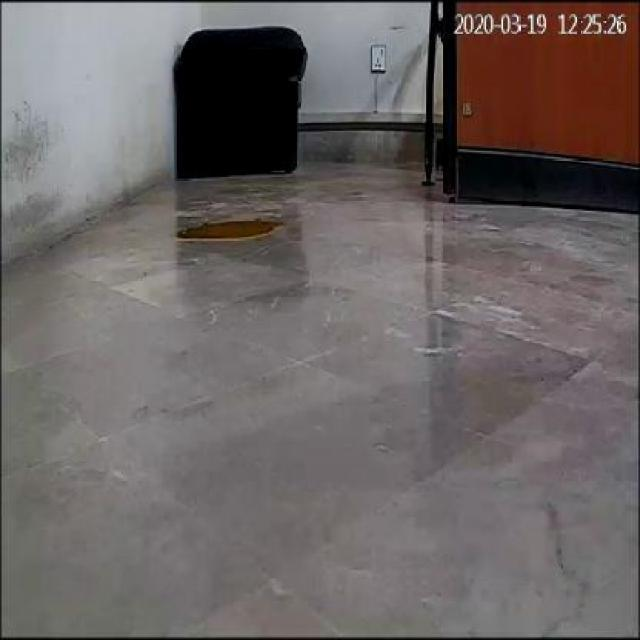spill: (166, 218, 280, 246)
